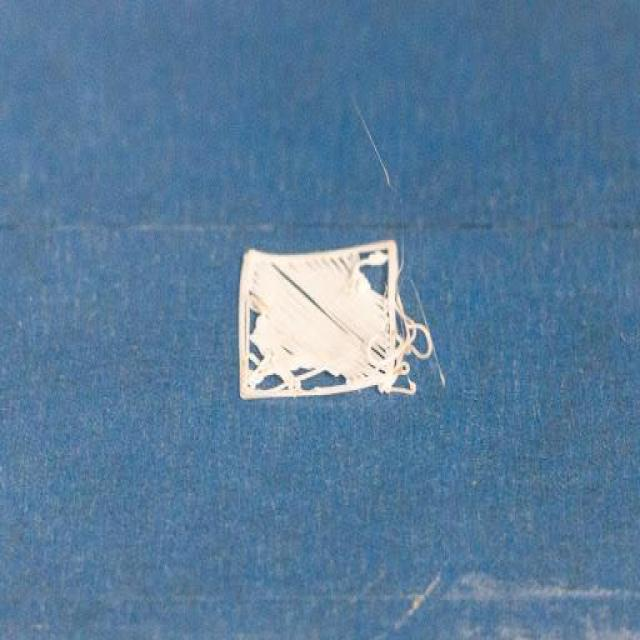Spaghetti: (376, 284, 436, 400)
